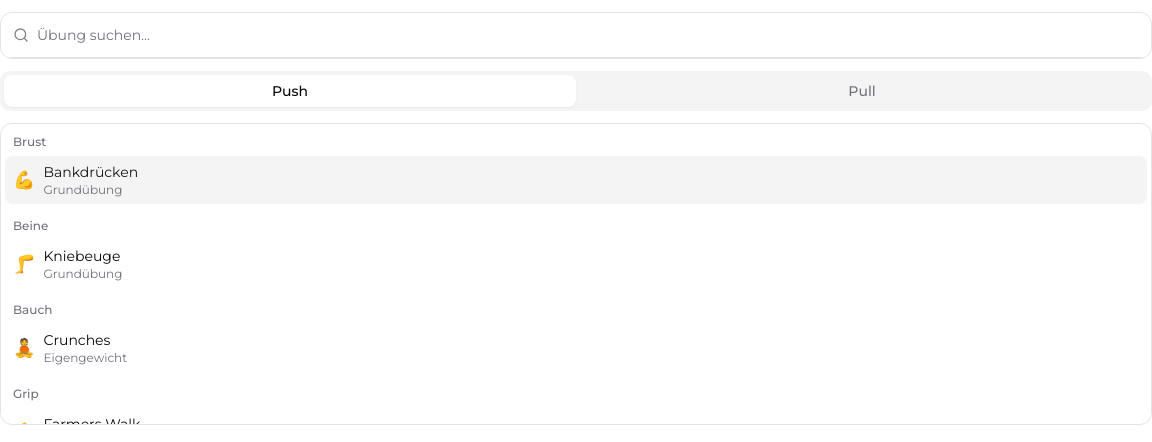
Test: filtering › shows pull exercises under Pull
Click the tab "Pull": (862, 91) [576, 75, 1148, 107]
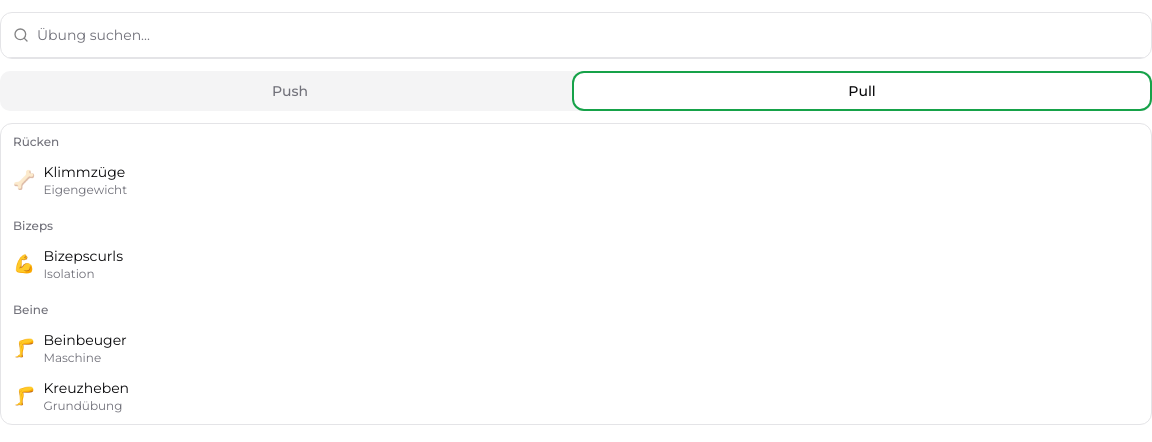
Check: the option no longer shows "Bankdrücken"
